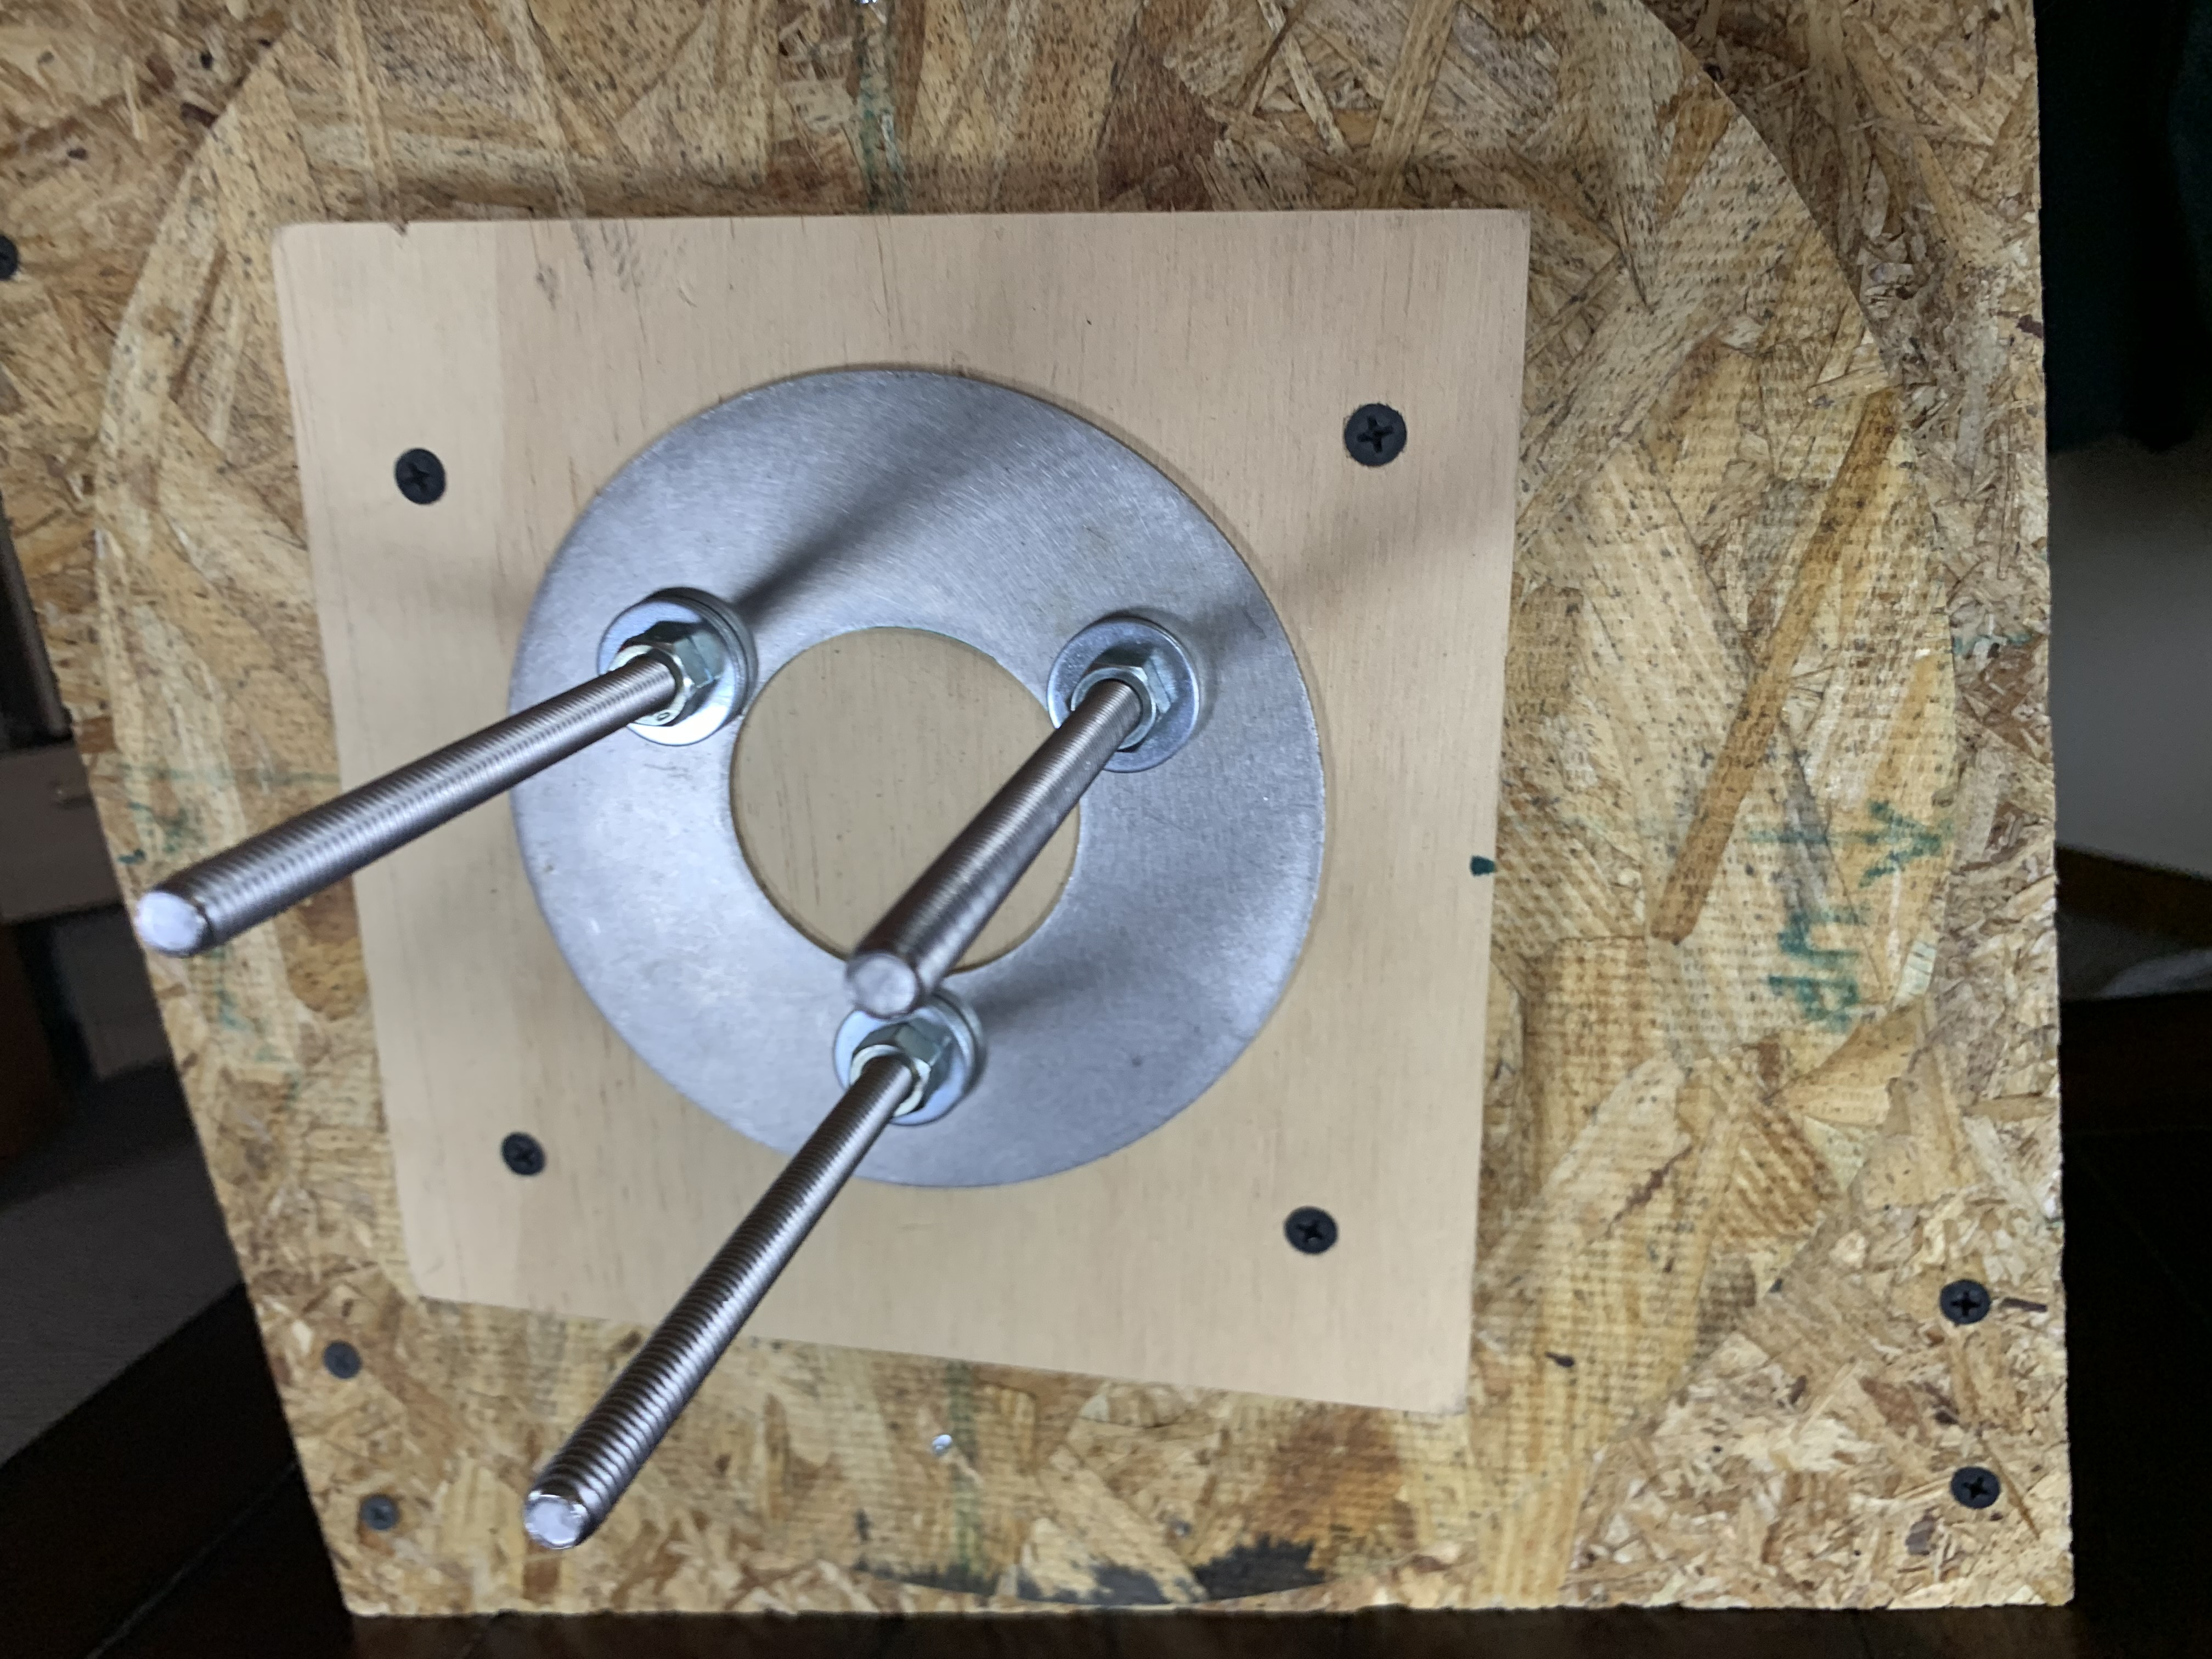bolt: (1042, 610, 1207, 777), (592, 586, 761, 749), (826, 990, 986, 1131)
